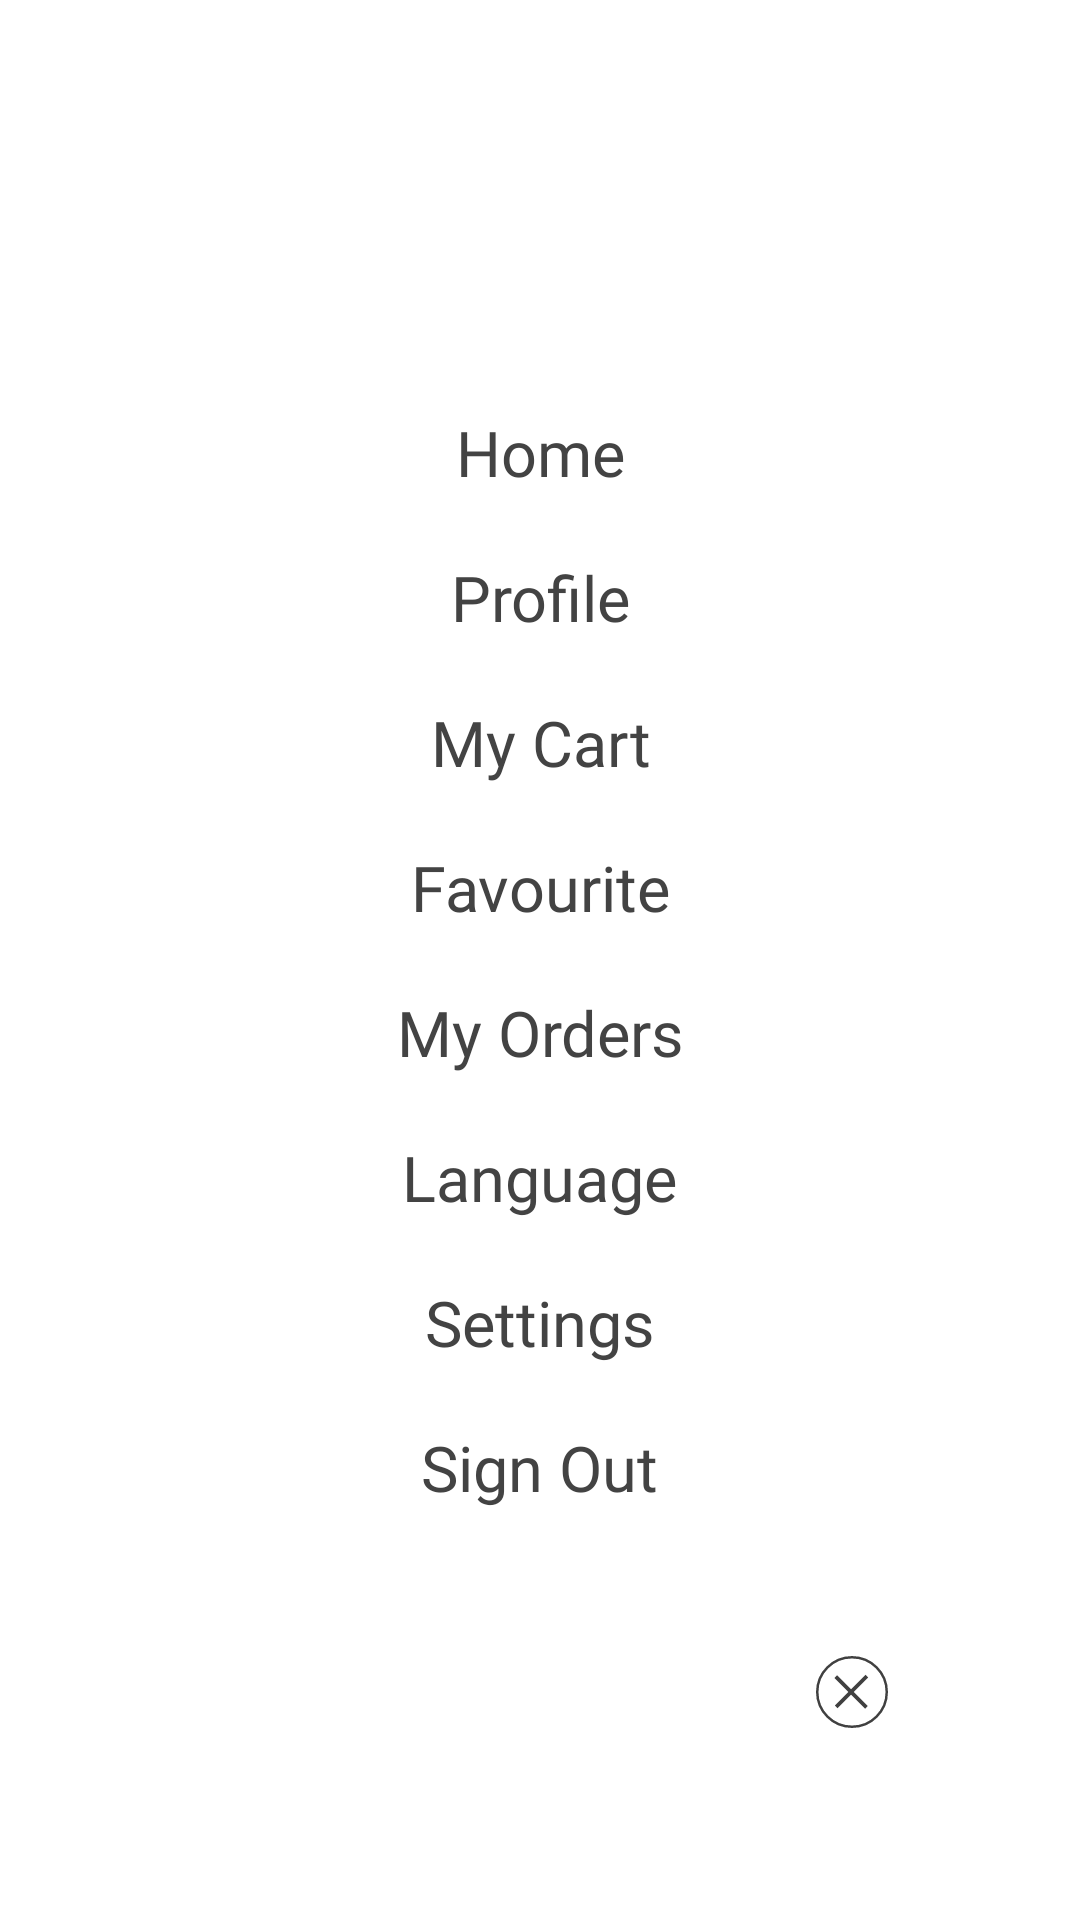

Screen size 1080w x 1920h. Icon name, then its center in pixels as (x=x, y=y):
close: (x=852, y=1692)
